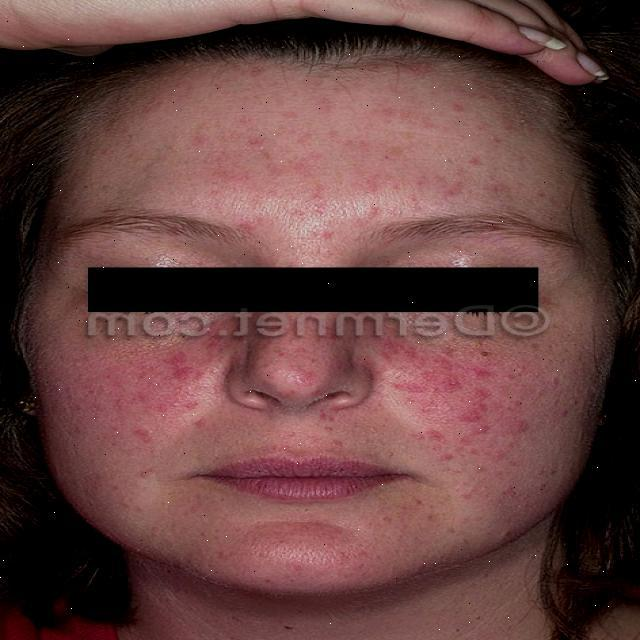images: (1, 3, 637, 637)
